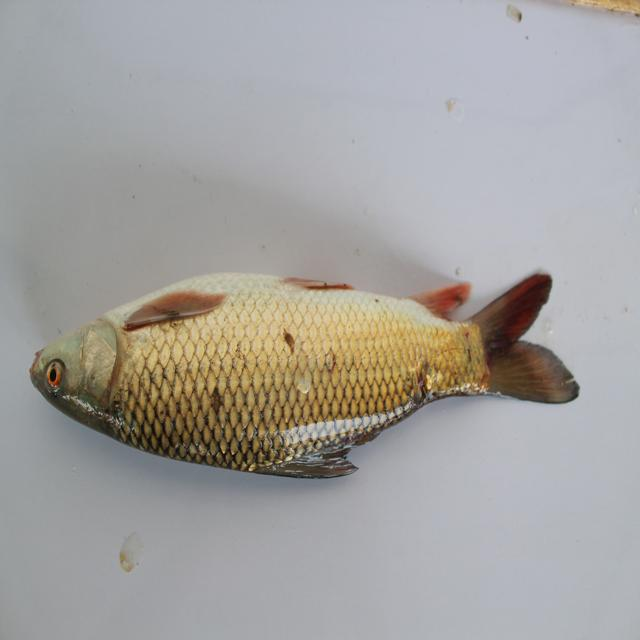Mori: (13, 256, 595, 491)
